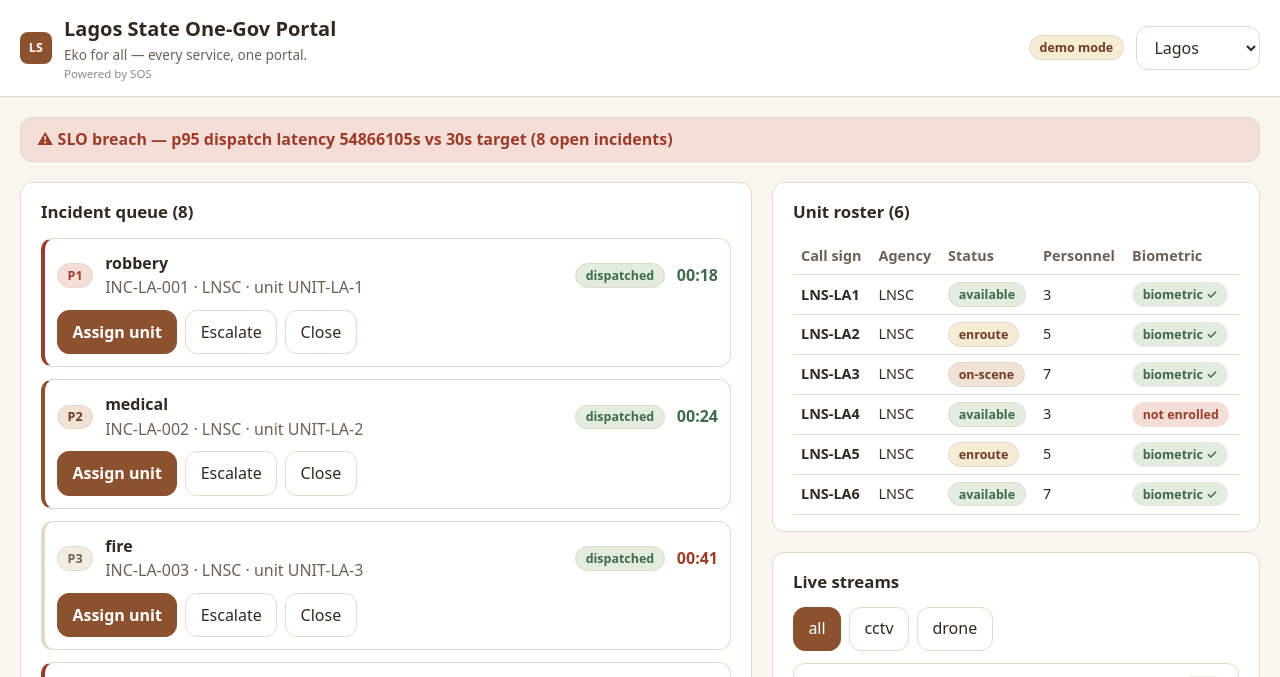
Test: dispatch console (demo mode) › close moves the incident out of the open queue
Expected: the heading "Incident queue (8)" is shown, [41,200,193,224]
Click the button "Close" below "INC-LA-001": x=321, y=332 [285,310,357,354]
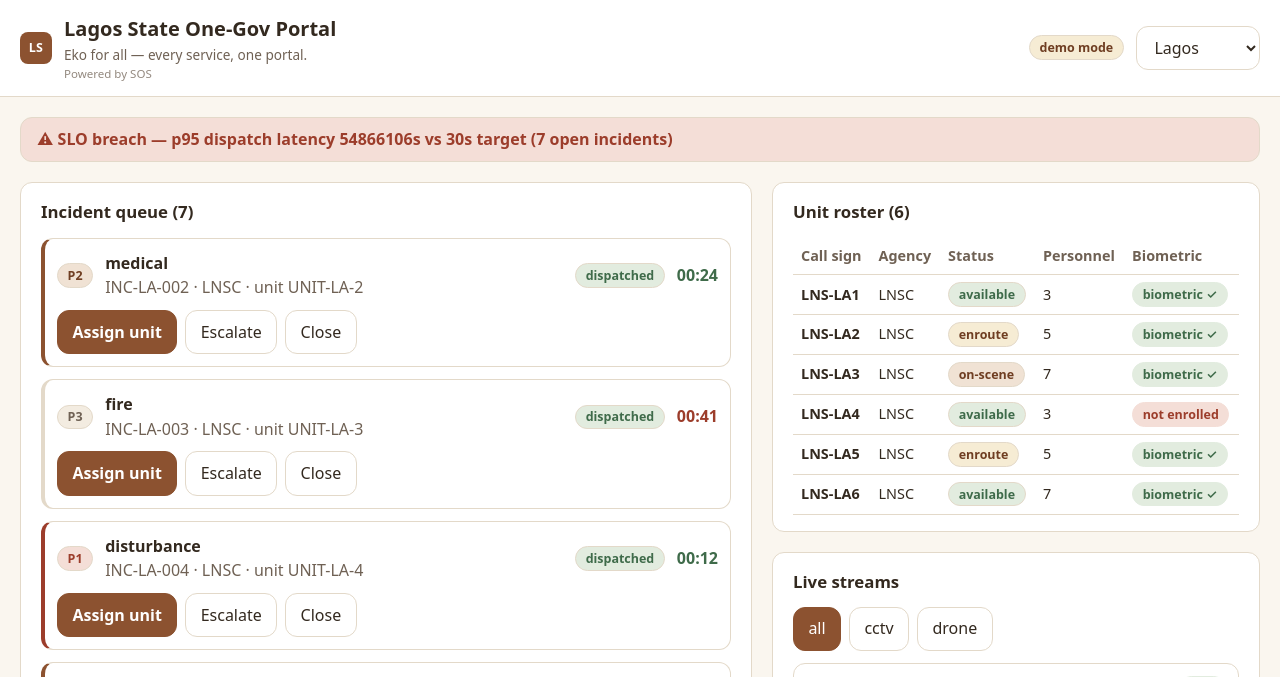
Expected: the number of buttons "Close" is 7
